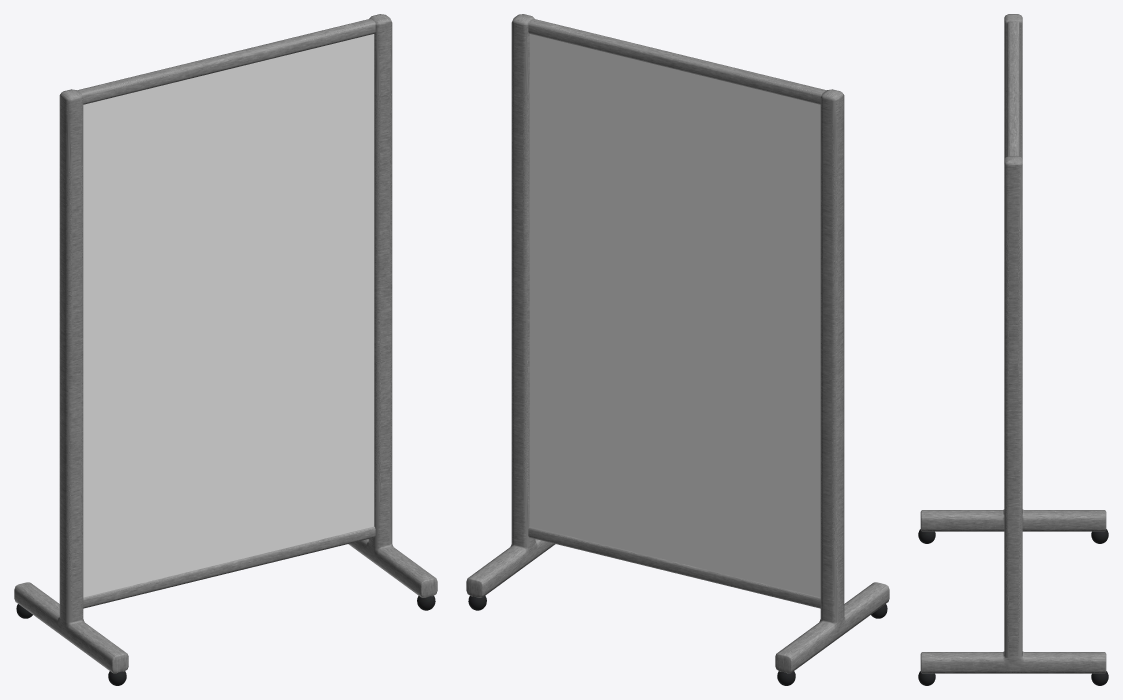
File: whiteboard.glb
3 renders of one model, left to right at view 1: azimuth 30°, elevation 25°; view 2: azimuth 150°, elevation 25°; view 3: azimuth 270°, elevation 25°, orthographic. The views are drawn at different scales.
Visible parts, largest first — view 1: whiteboard whiteboard, whiteboard frame_R, whiteboard frame_L, frame_T whiteboard, whiteboard frame_B; view 2: whiteboard whiteboard, whiteboard frame_R, whiteboard frame_L, frame_T whiteboard, whiteboard frame_B; view 3: whiteboard frame_L, whiteboard frame_R, frame_T whiteboard.
Boxes of the visible parts, left/top/right/bottom form: whiteboard whiteboard: left=83, top=34, right=374, bottom=597; whiteboard frame_R: left=14, top=89, right=128, bottom=673; whiteboard frame_L: left=348, top=14, right=437, bottom=597; frame_T whiteboard: left=77, top=19, right=375, bottom=104; whiteboard frame_B: left=83, top=526, right=375, bottom=608; whiteboard whiteboard: left=529, top=34, right=820, bottom=597; whiteboard frame_R: left=775, top=89, right=889, bottom=673; whiteboard frame_L: left=466, top=14, right=555, bottom=597; frame_T whiteboard: left=528, top=19, right=826, bottom=104; whiteboard frame_B: left=528, top=526, right=820, bottom=608; whiteboard frame_L: left=920, top=156, right=1106, bottom=673; whiteboard frame_R: left=920, top=14, right=1106, bottom=531; frame_T whiteboard: left=1007, top=21, right=1019, bottom=156.
Bounding box in the file's own units: 0.0572 × 0.0938 × 0.0307.
Materials: 3 (3 with a texture image).
